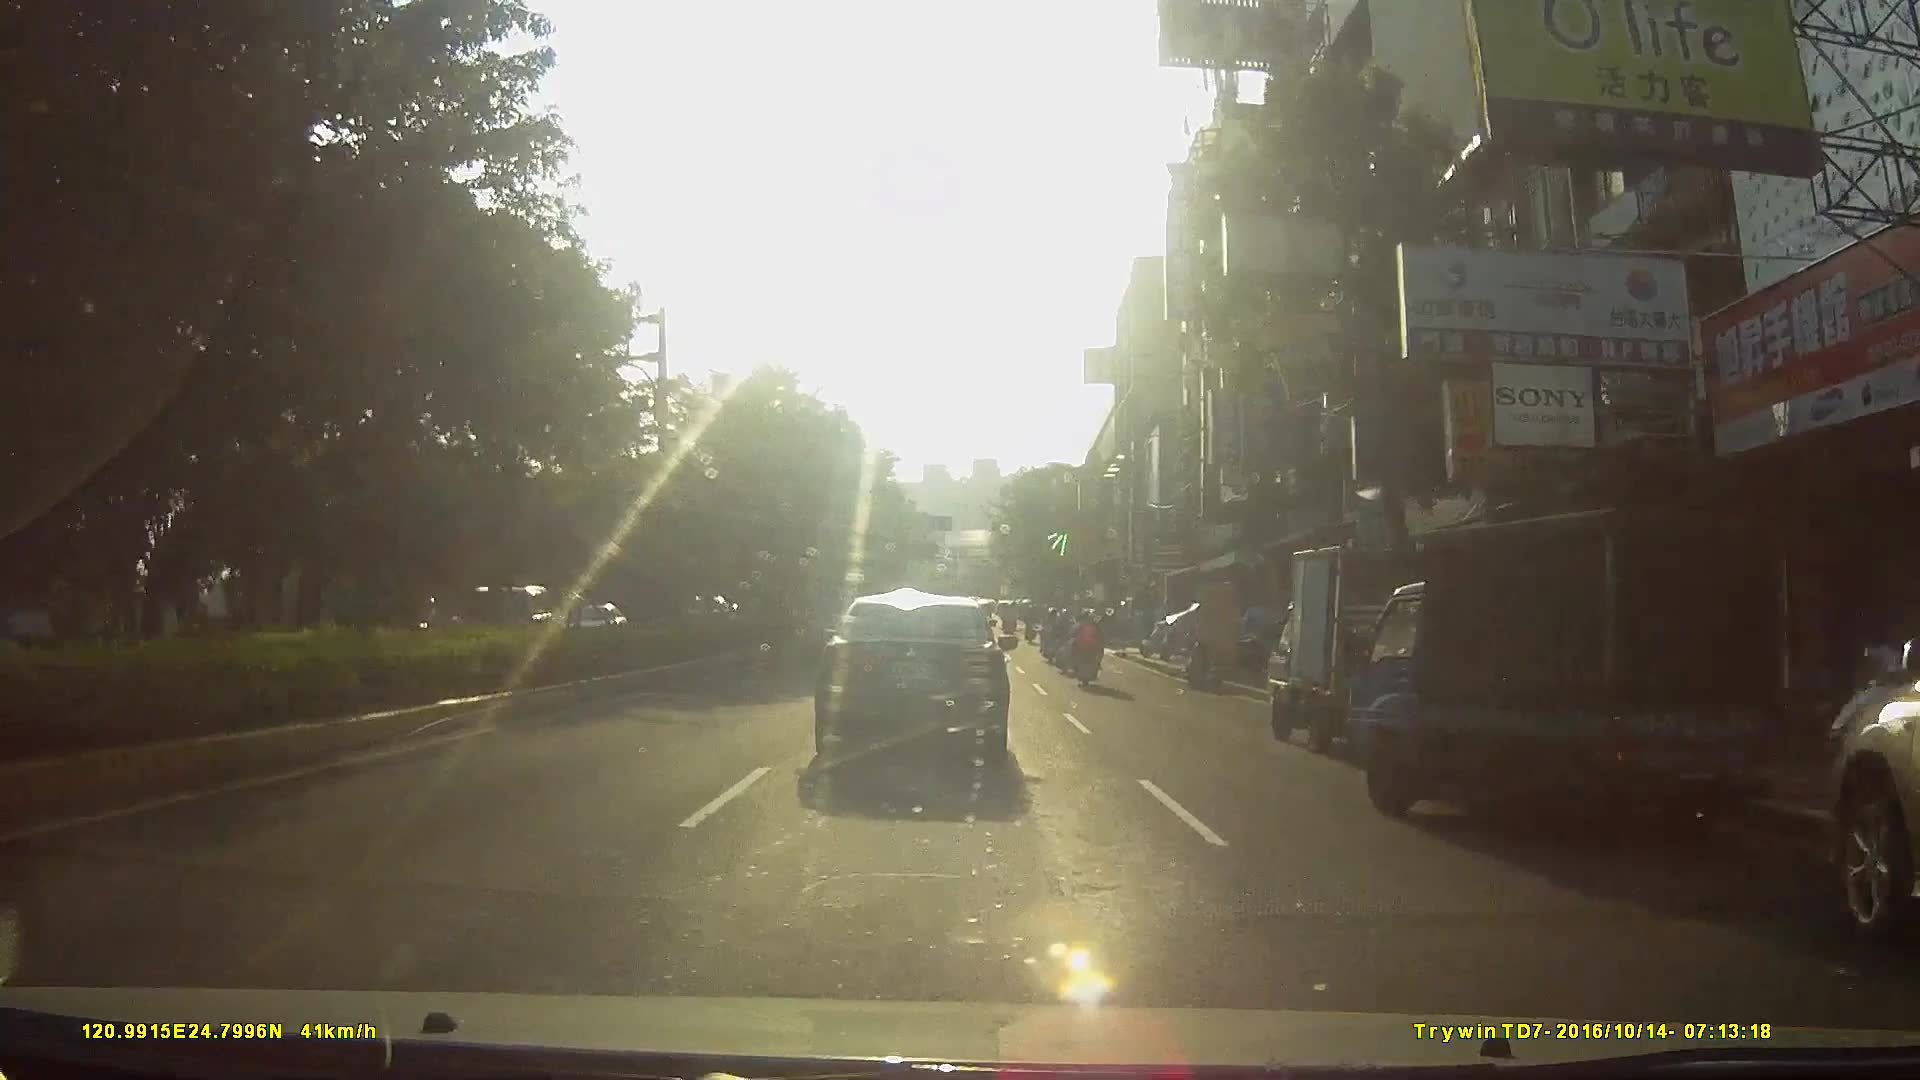rider: (1065, 607, 1107, 691), (1042, 606, 1062, 663)
vehicle: (1340, 500, 1798, 870), (1253, 532, 1505, 762), (812, 588, 1030, 788), (1794, 637, 1920, 949)
